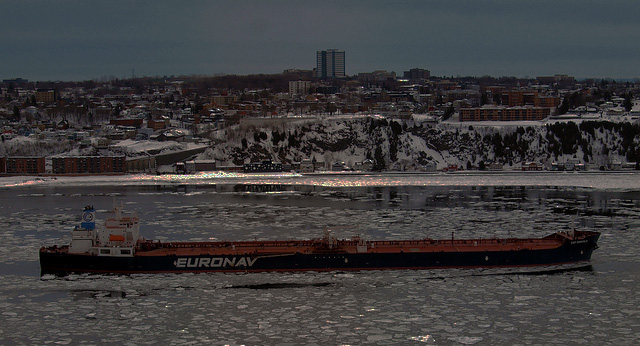tanker: (38, 196, 598, 273)
